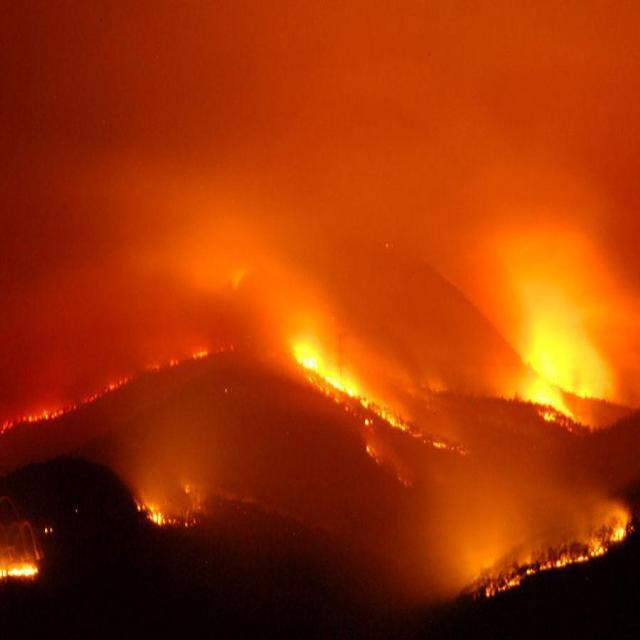fire: (289, 333, 455, 477), (0, 352, 222, 436), (465, 510, 634, 604), (511, 308, 610, 436), (134, 463, 210, 529), (0, 524, 42, 583)
